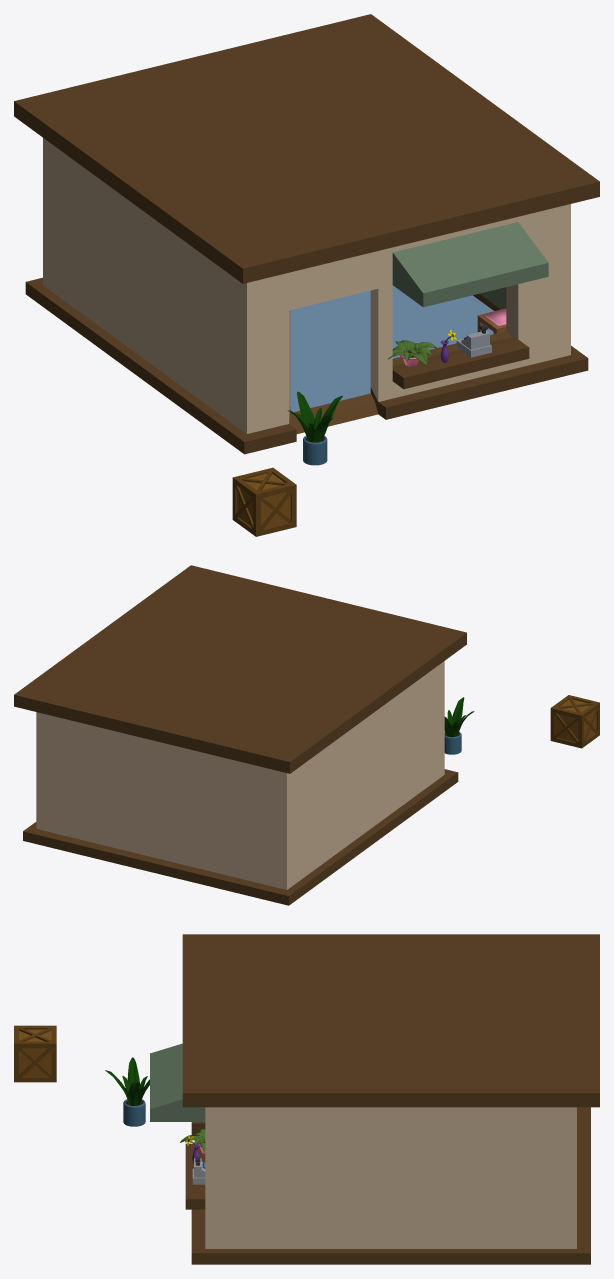
File: floristeria_materiales.fbx
The picture shows the model from 3 angles, top to bottom: view 1: azimuth 30°, elevation 25°; view 2: azimuth 150°, elevation 25°; view 3: azimuth 270°, elevation 25°; orthographic projection. The views are drawn at different scales.
Visible parts, largest first — view 1: EDIFICIO, crate, maceta1, maceta2, caja; view 2: EDIFICIO, crate, maceta1; view 3: EDIFICIO, crate, maceta1.
Boxes of the visible parts, x1=… form: EDIFICIO: x1=14, y1=14, x2=599, y2=454; crate: x1=232, y1=467, x2=296, y2=536; maceta1: x1=287, y1=391, x2=342, y2=465; maceta2: x1=388, y1=340, x2=436, y2=366; caja: x1=456, y1=324, x2=491, y2=357; EDIFICIO: x1=14, y1=565, x2=466, y2=905; crate: x1=550, y1=695, x2=599, y2=748; maceta1: x1=444, y1=697, x2=474, y2=754; EDIFICIO: x1=150, y1=934, x2=599, y2=1264; crate: x1=14, y1=1025, x2=56, y2=1082; maceta1: x1=105, y1=1057, x2=149, y2=1126.
Bounding box in the file's own units: 2156 × 901 × 2750.
